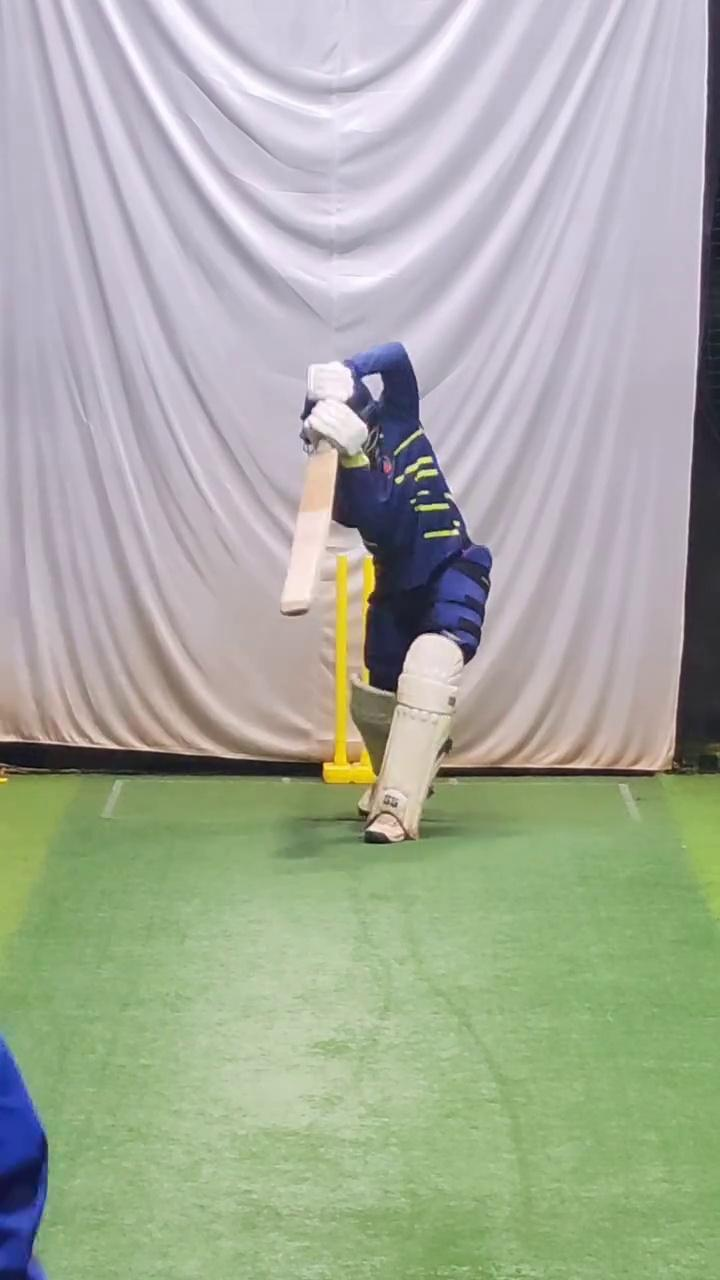bat: (274, 437, 344, 625)
